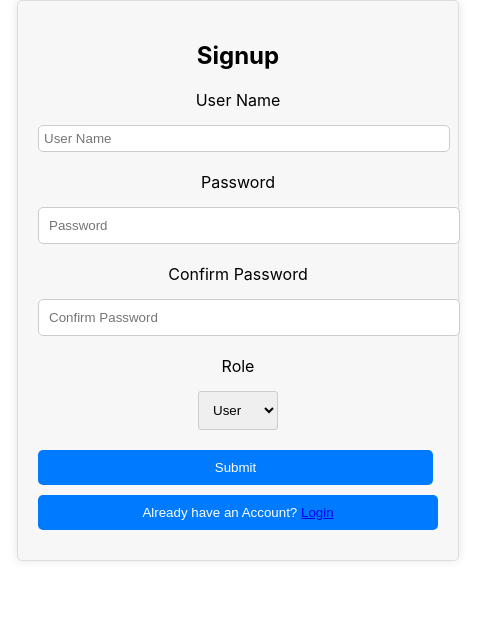
Test case: signup_component › should_show_an_error_message_when_attempting_to_submit_the_form_with_empty_fields
The width and height of the screenshot is (477, 630).
Click the button "Submit": (236, 467) [38,450,433,485]
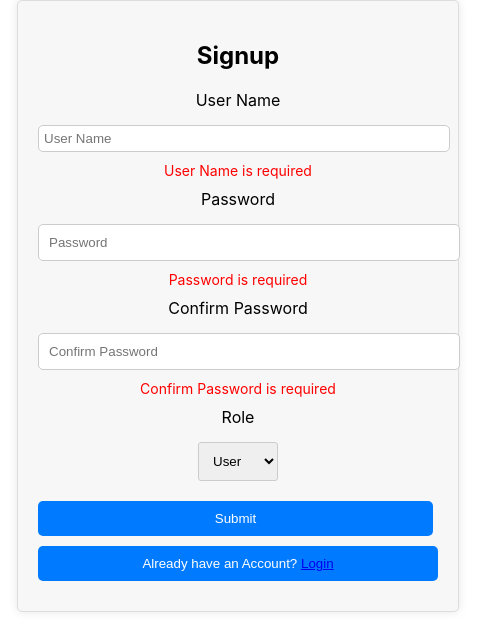
Expected: the text "User Name is required" is shown, [164,162,312,179]
Expected: the text "Password is required" is shown, [169,271,307,288]
Expected: the text "Confirm Password is required" is shown, [140,380,336,397]
